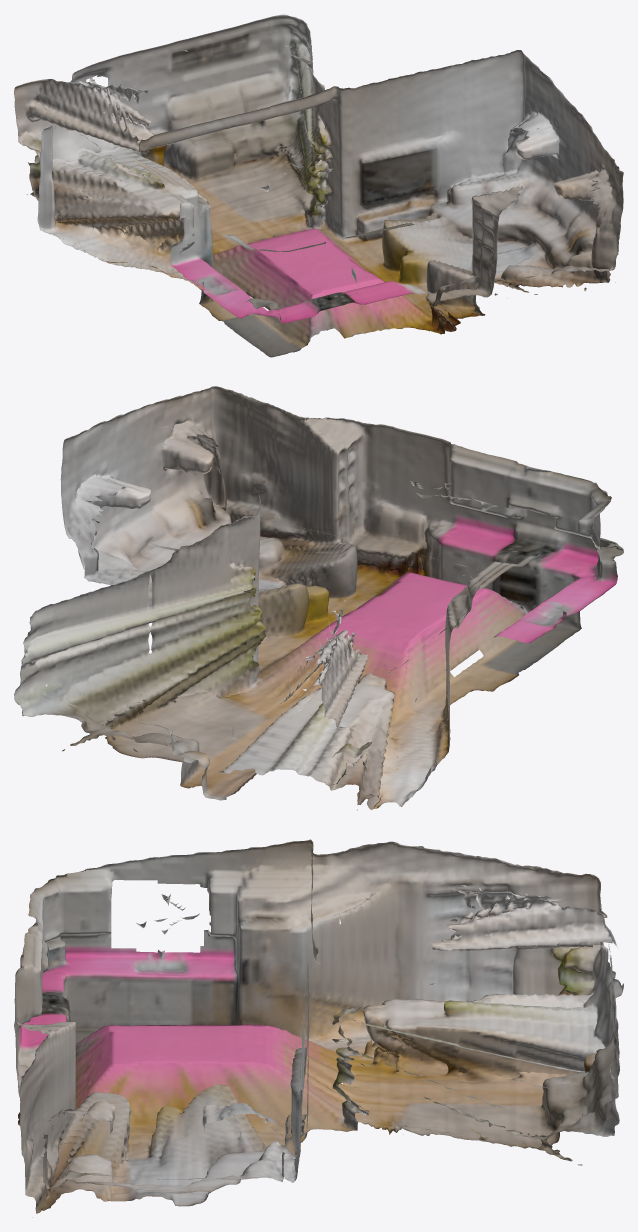
File: PinkWorktops.glb
3 renders of one model, top to bottom at view 1: azimuth 30°, elevation 25°; view 2: azimuth 150°, elevation 25°; view 3: azimuth 270°, elevation 25°, orthographic. The views are drawn at different scales.
Visible parts, largest first — view 1: world; view 2: world; view 3: world.
Part boxes in pixels (<box>): world: <box>14,14,623,357</box>; world: <box>14,386,623,810</box>; world: <box>14,839,623,1217</box>.
Bounding box in the file's own units: 5.23 × 2.17 × 5.9.
